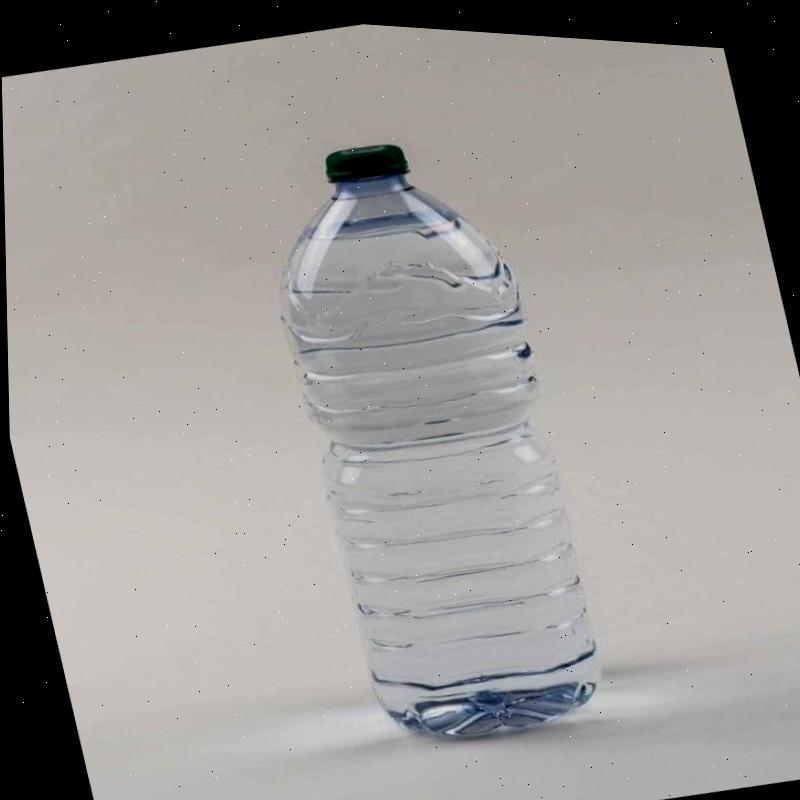botella: (232, 106, 617, 762)
